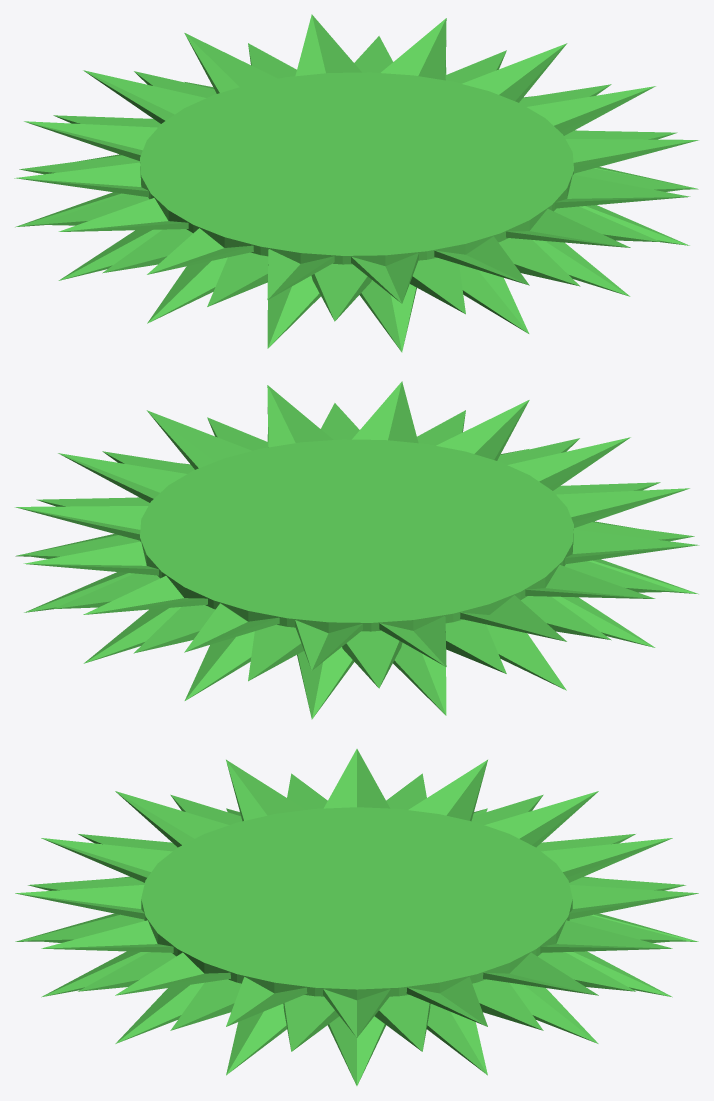
File: CartoonBrushSawBlade.fbx
3 views of the same model, one above another, from view 1: azimuth 30°, elevation 25°; view 2: azimuth 150°, elevation 25°; view 3: azimuth 270°, elevation 25° (orthographic).
Parts seen in each view (by area): view 1: Mesh; view 2: Mesh; view 3: Mesh.
Boxes of the visible parts, x1=… form: Mesh: x1=14, y1=14, x2=698, y2=352; Mesh: x1=15, y1=381, x2=699, y2=719; Mesh: x1=15, y1=749, x2=698, y2=1085.
Size of the model in its own units: 18.24 by 1.43 by 18.24.
